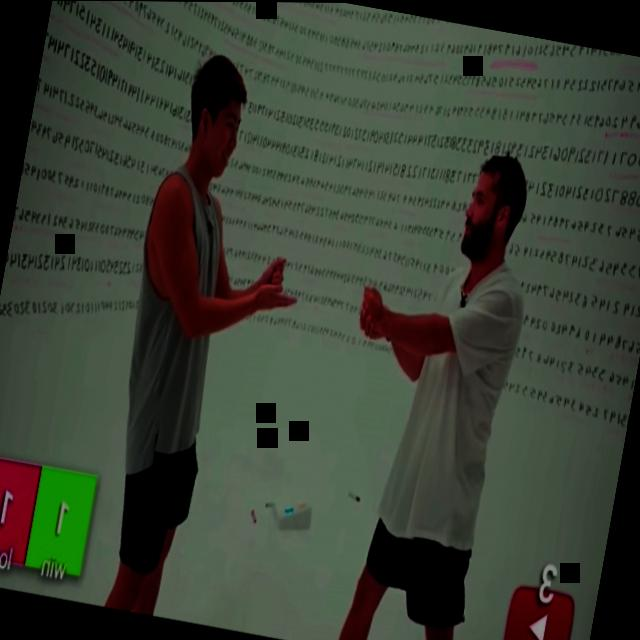Rock: (356, 282, 388, 335), (264, 250, 288, 287)
